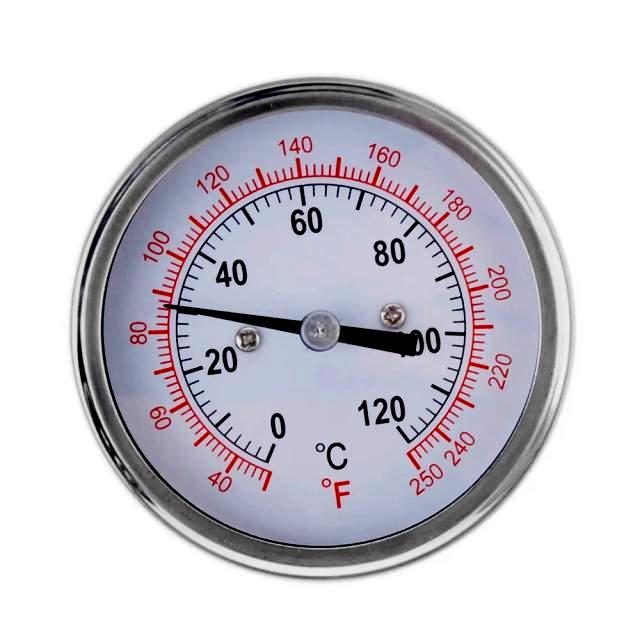Needle_Tip: (146, 287, 212, 330)
Needle_base: (295, 301, 349, 366)
max_value: (348, 390, 451, 467)
min_value: (266, 397, 301, 473)
